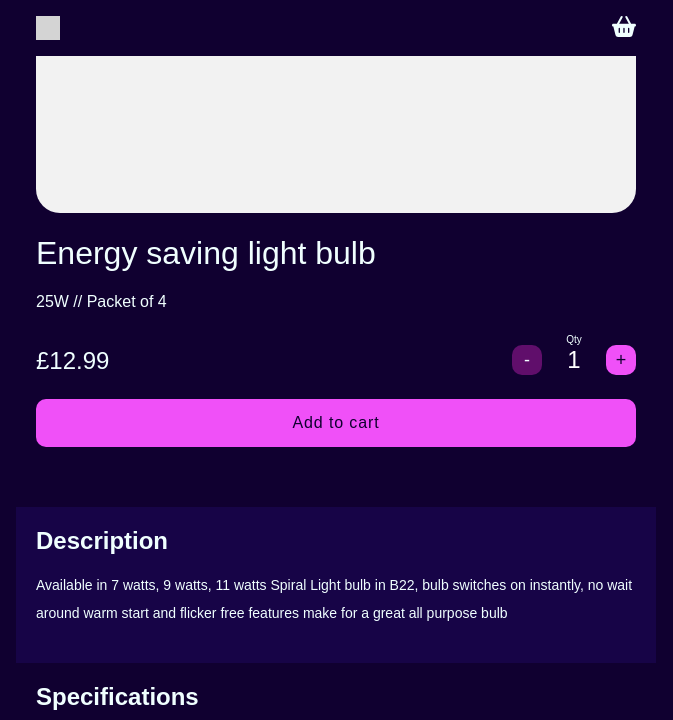
Scenario: should be able to add items to the basket
(page scrolled)
What coordinates should you click on to do the following:
click the button "+"
I would click on:
 (621, 360)
Its box is [606,345,636,375].
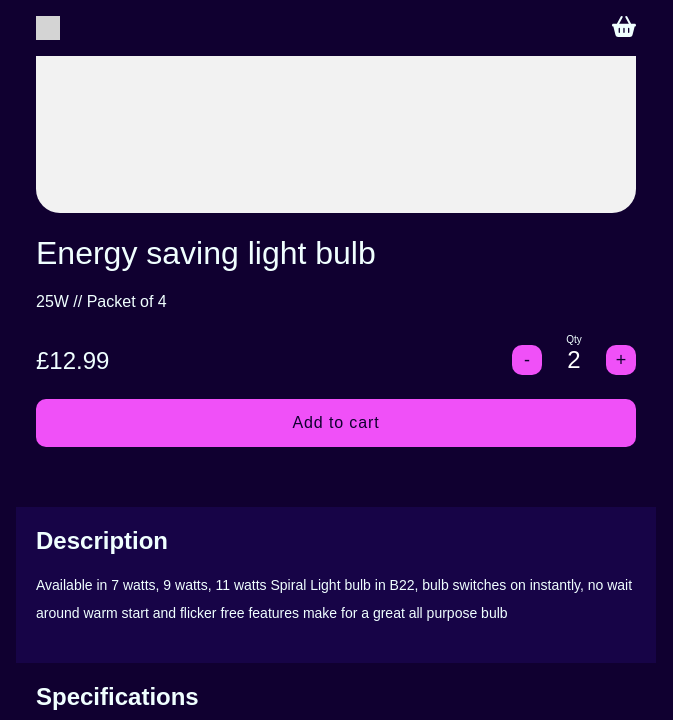
What coordinates should you click on to do the following:
click the button "+"
I would click on:
 (621, 360)
Its box is [606,345,636,375].
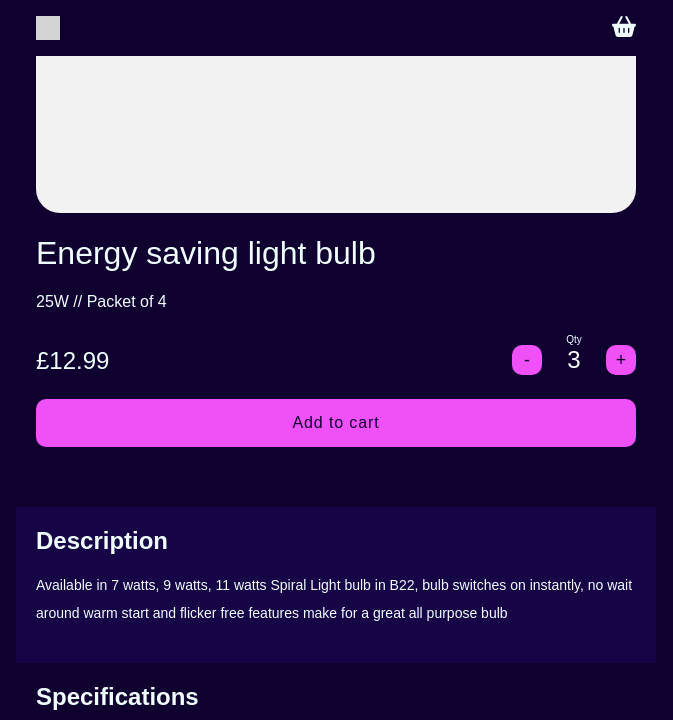
What coordinates should you click on to do the following:
click the button "+"
I would click on:
 (621, 360)
Its box is [606,345,636,375].
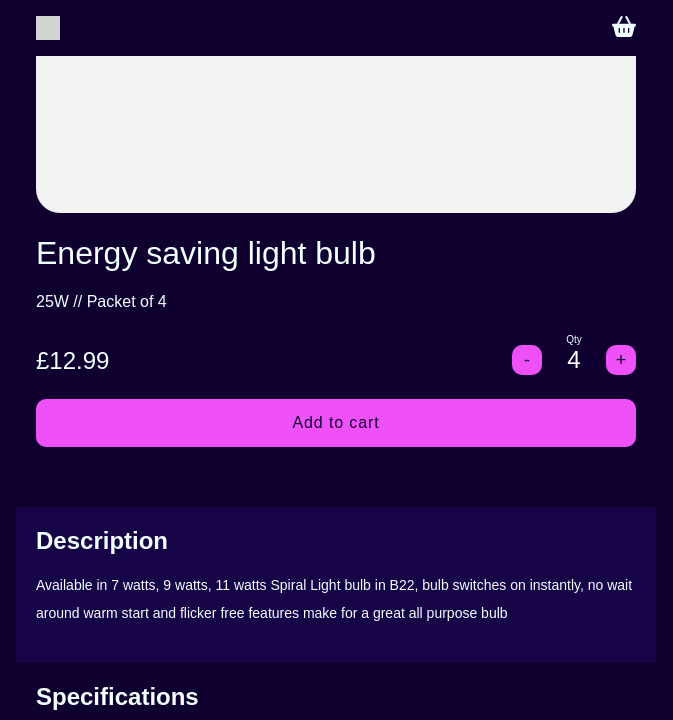
Check: the number field labelled "Qty" holds "4", box [550,345,598,375]
What coordinates should you click on to do the following:
click the button "Add to cart"
I would click on:
 (336, 423)
Its box is [36,399,636,447].
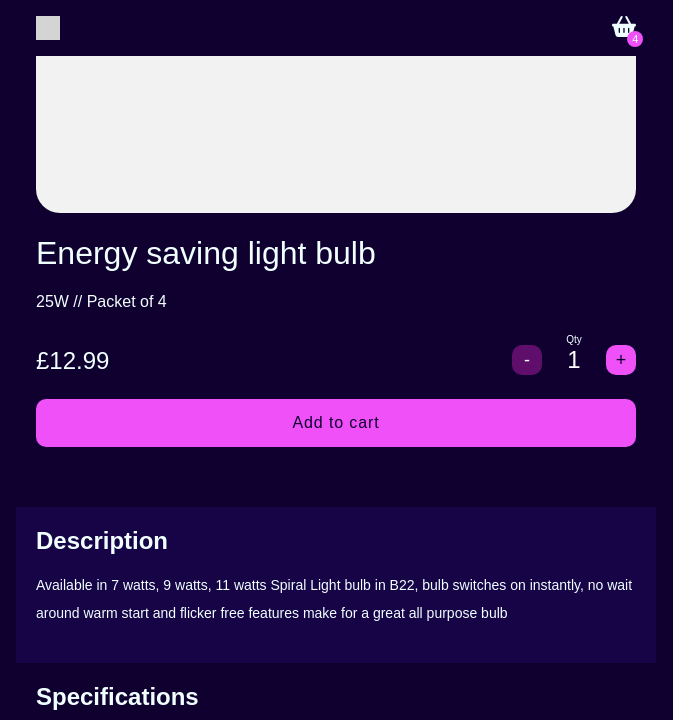
Check: the text with test id "items-in-cart" reads "4", box [632,33,638,45]
